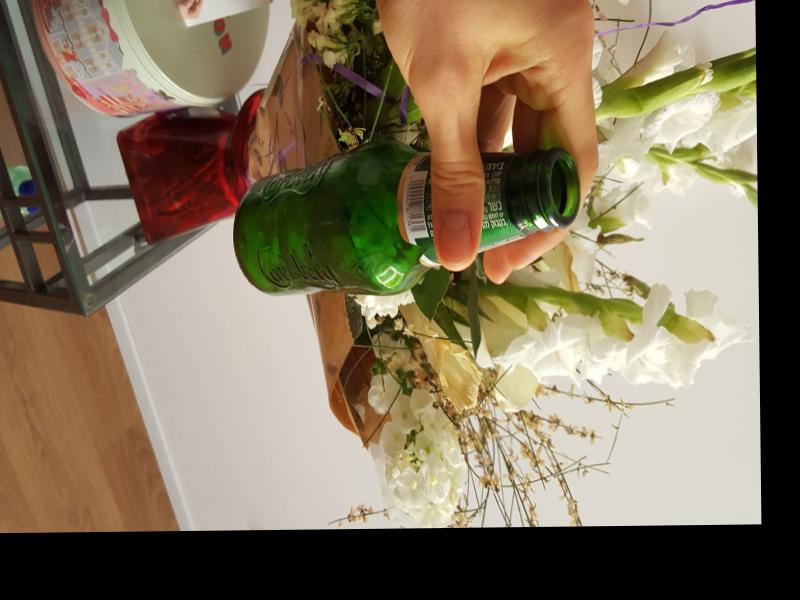Beer: (230, 139, 578, 298)
